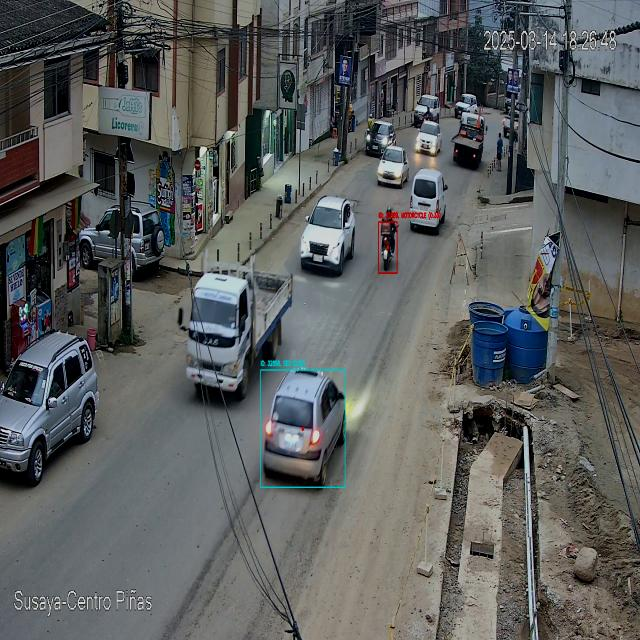SUV: (0, 332, 98, 487), (301, 196, 355, 278)
TRUCK: (184, 260, 290, 404)
